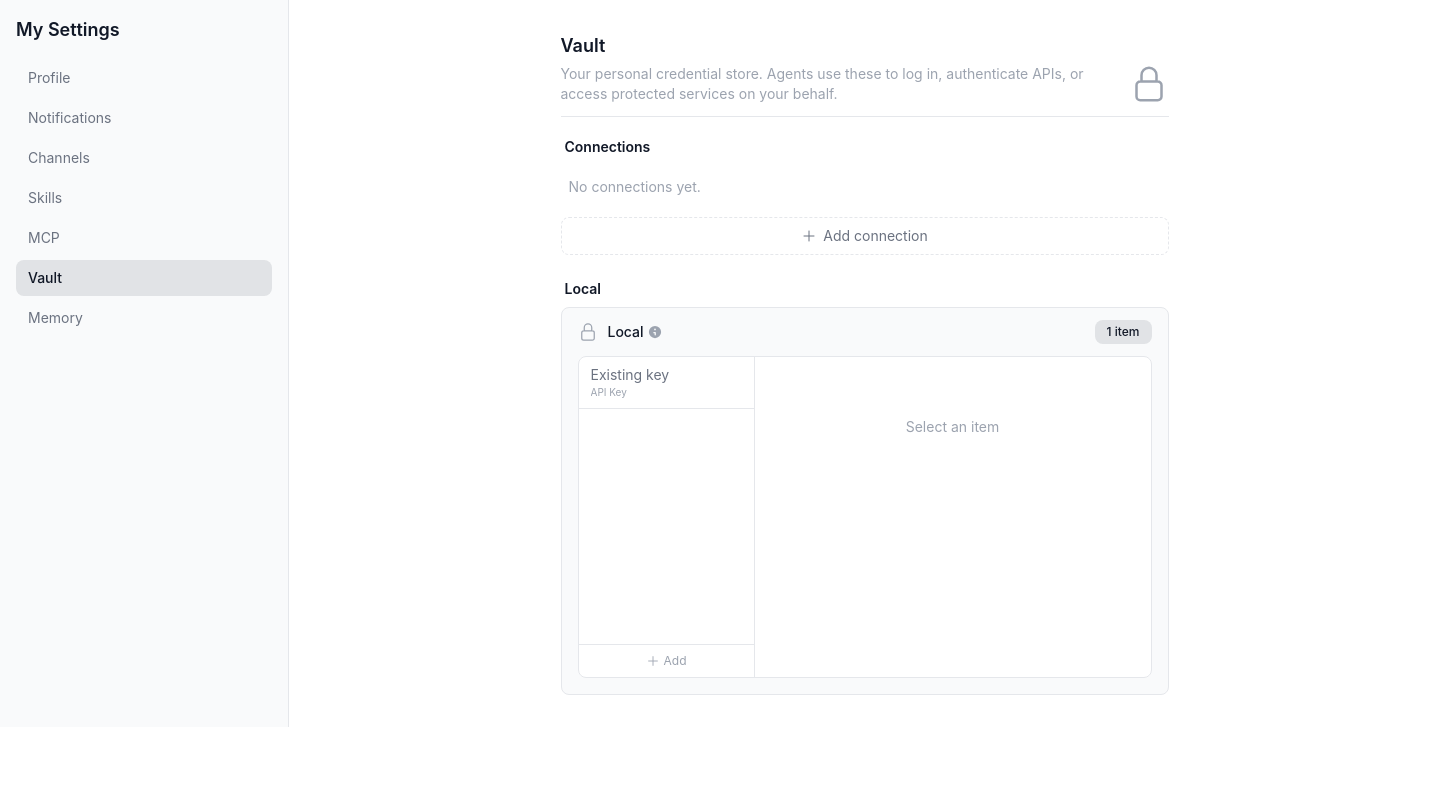
it: saving local vault secrets from settings › saves changes to an existing secret without overwriting its hidden value
The image size is (1440, 810).
Click the button "Existing key API Key" at (652, 382), box [578,357,726,408]
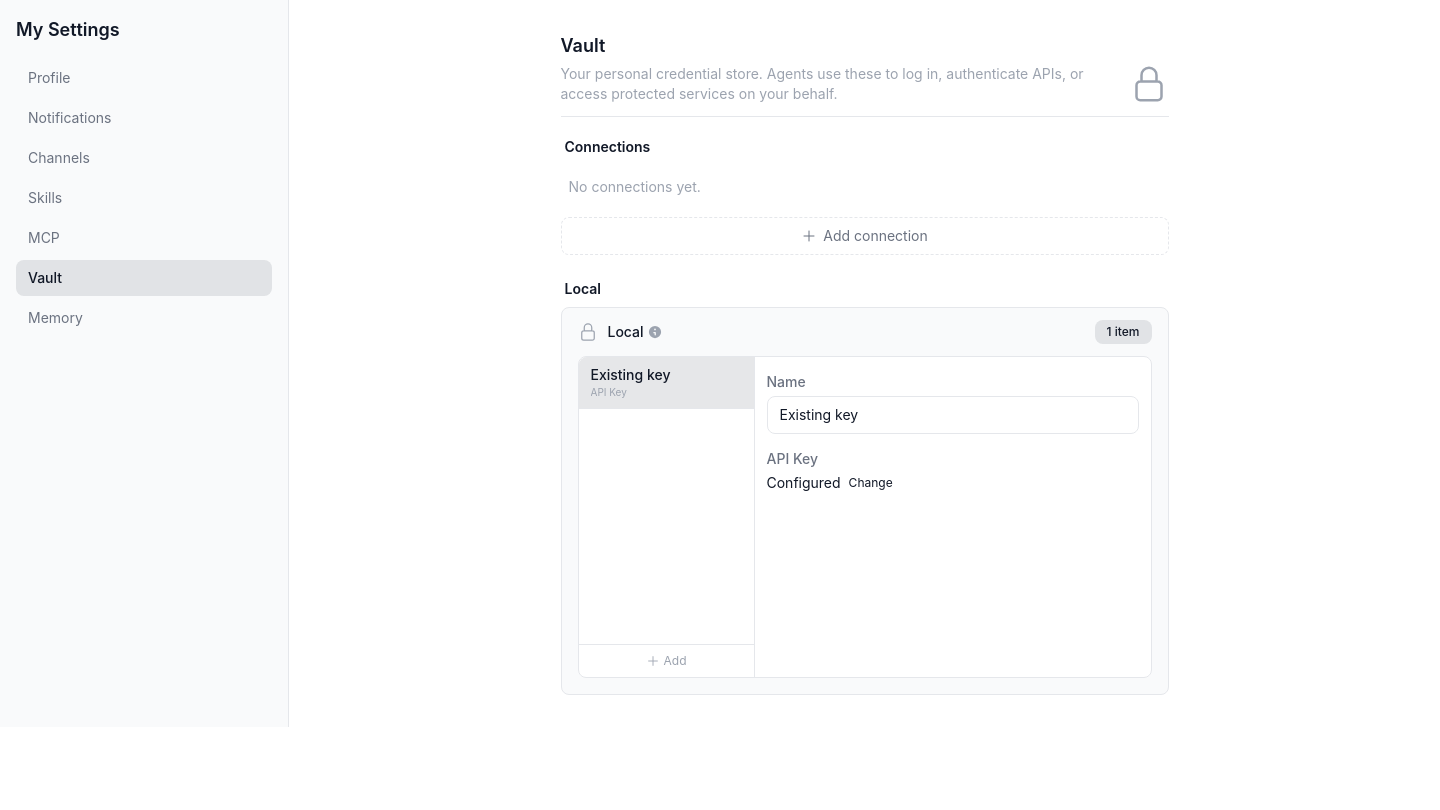
Replace the text in the field with placeholder "Name" with "Renamed key" at (952, 415), box [766,396,1138,434]
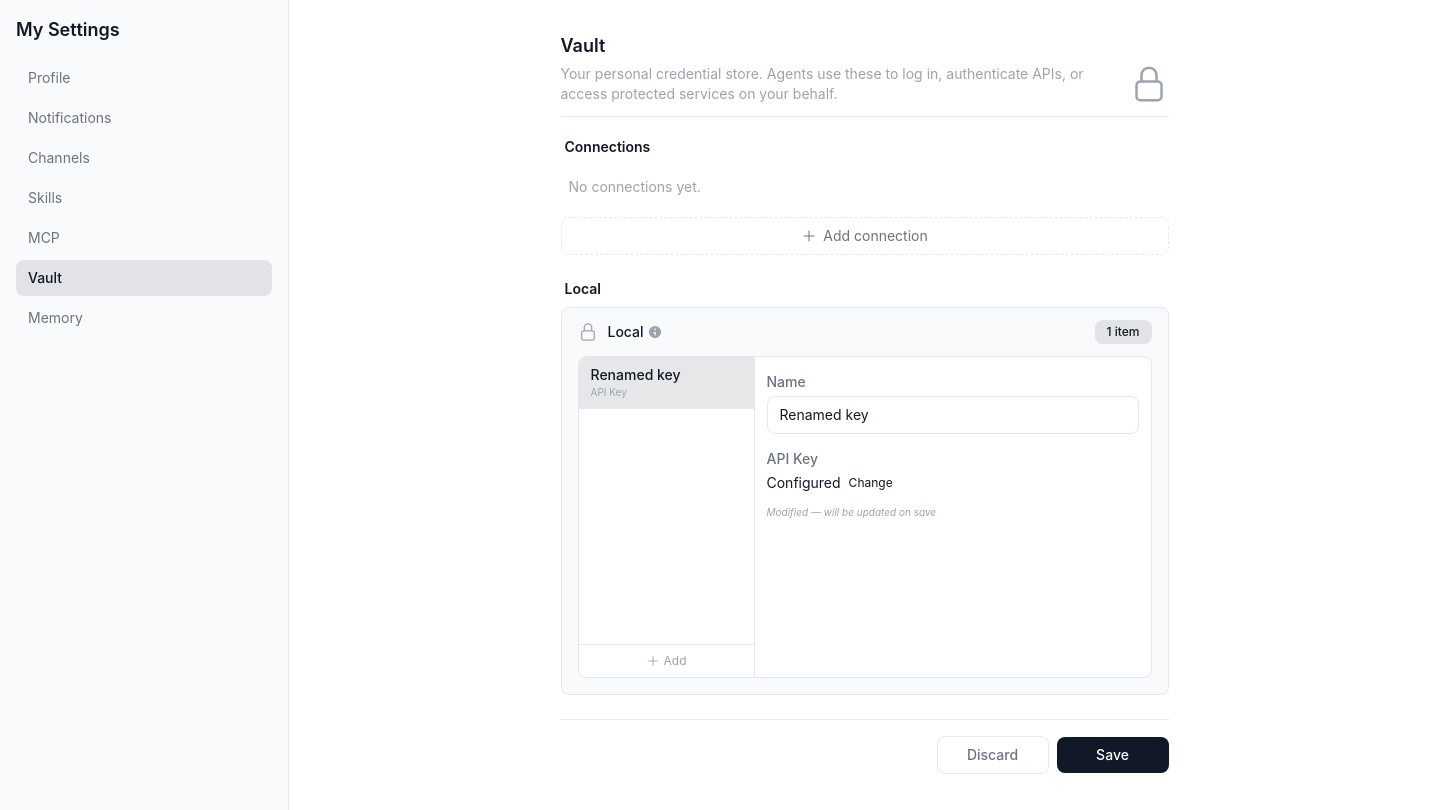
Click the button "Save" at (1112, 755), box [1056,737,1168,773]
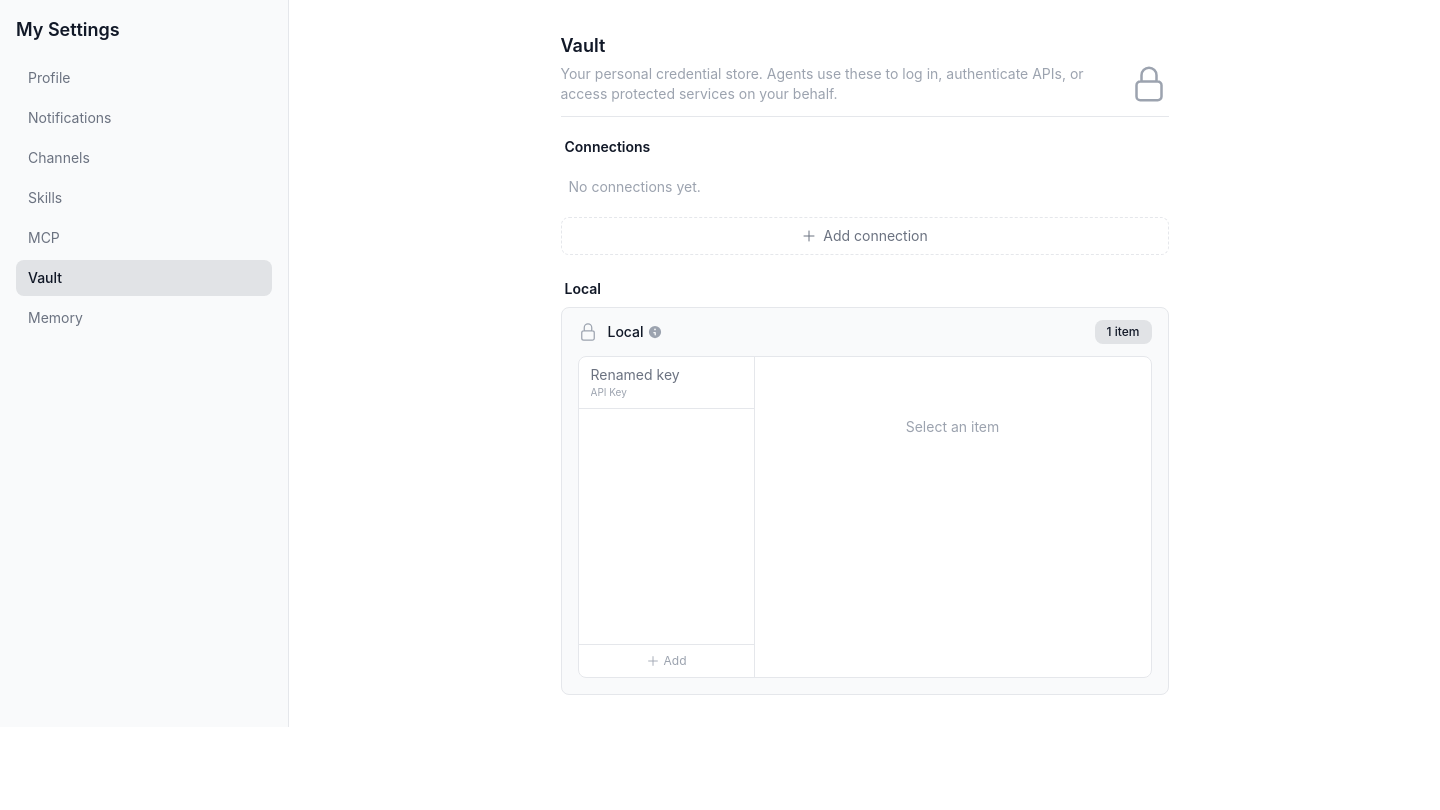
Result: the text "save" is gone
